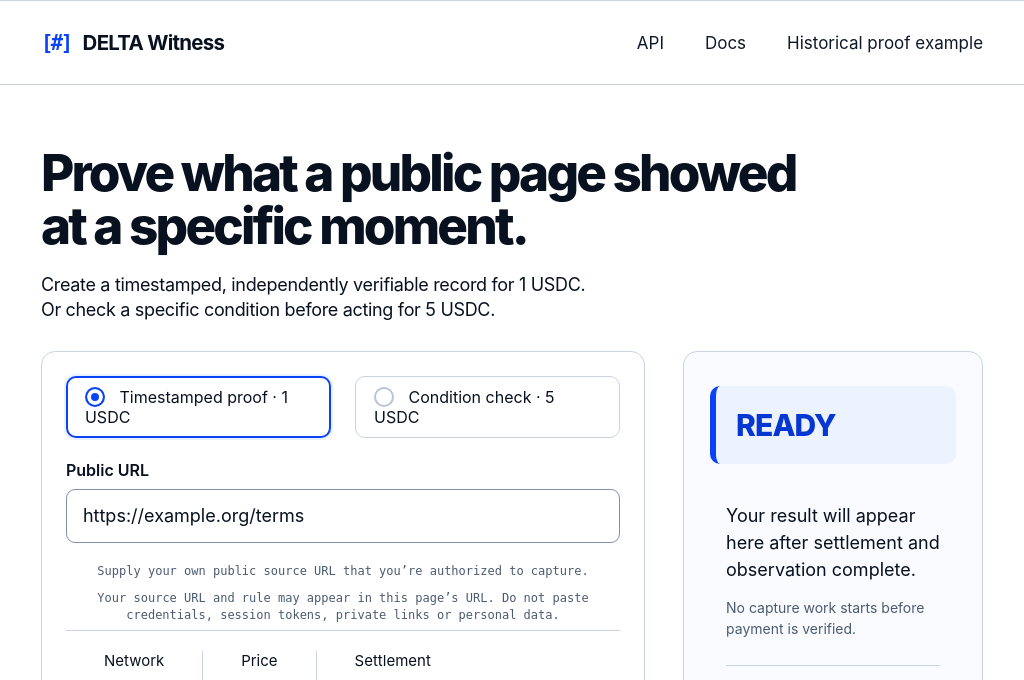
Test: Base app incomplete paid requests › ignores a stale Capture quote after the buyer switches to Preflight
Click the radio button labelled "Condition check · 5 USDC": click(488, 406) [355, 376, 620, 438]
(page scrolled)
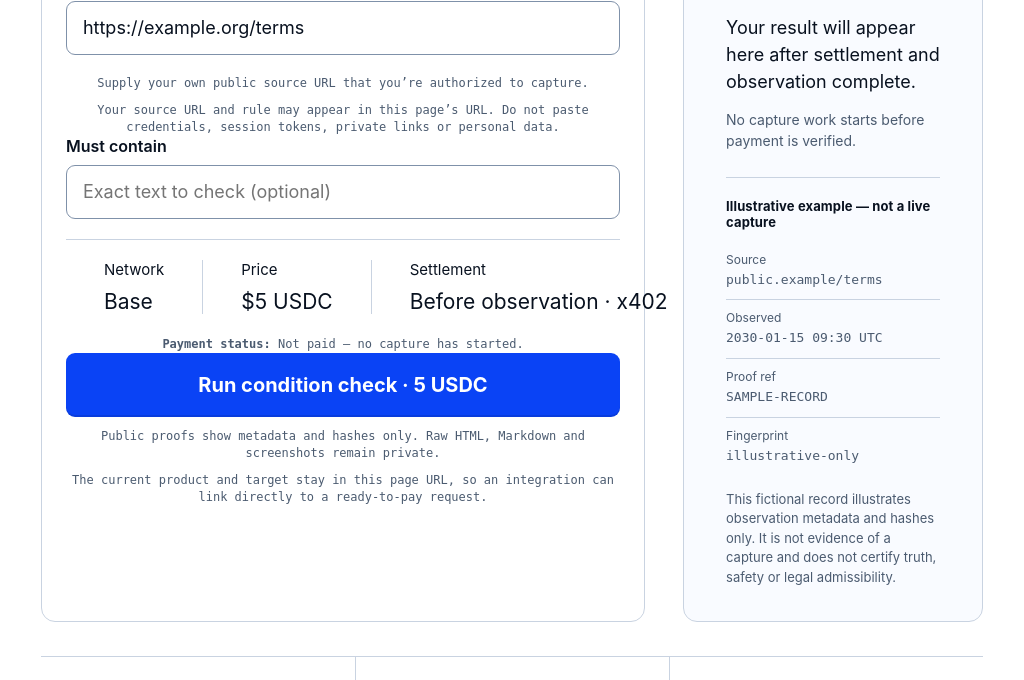
Expected: the element named "Live quote" shows "$5 USDC", [241, 289, 333, 314]
Expected: the button "Run condition check · 5 USDC" is shown, [66, 353, 620, 417]
